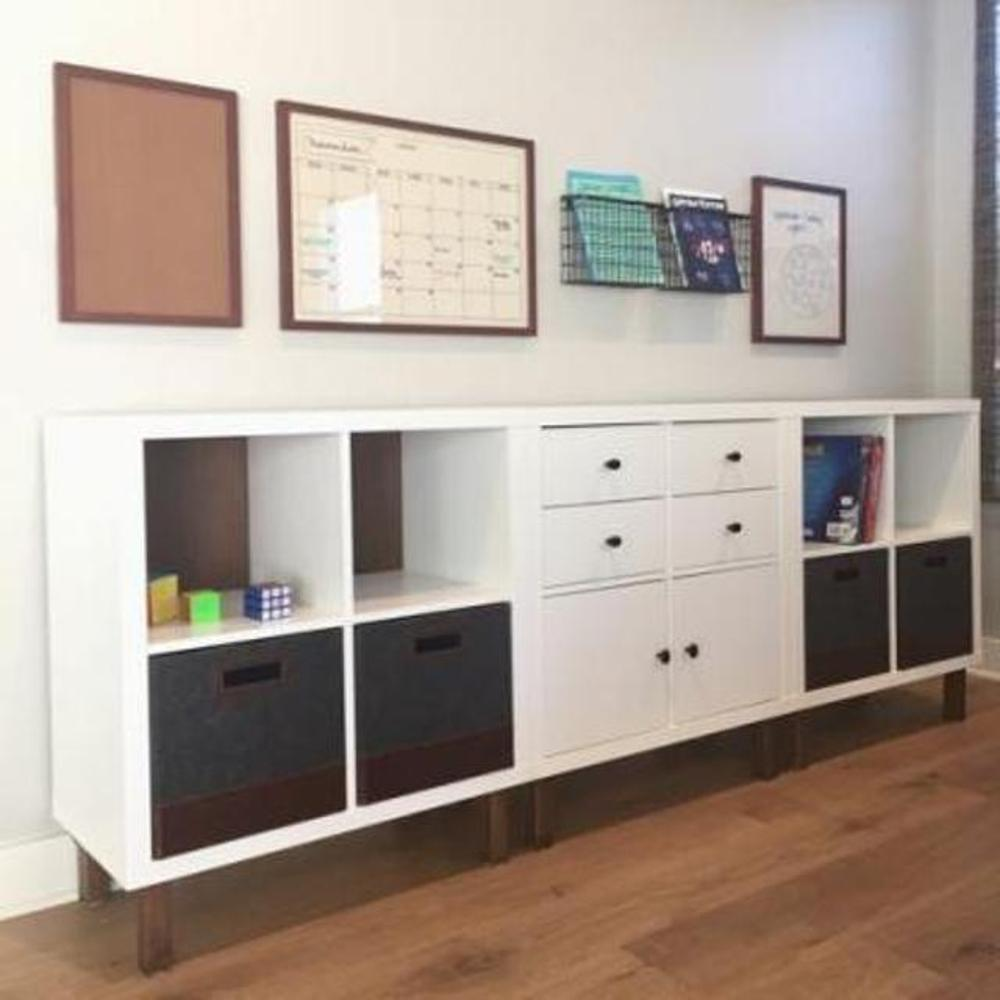lamp: (34, 395, 983, 978)
